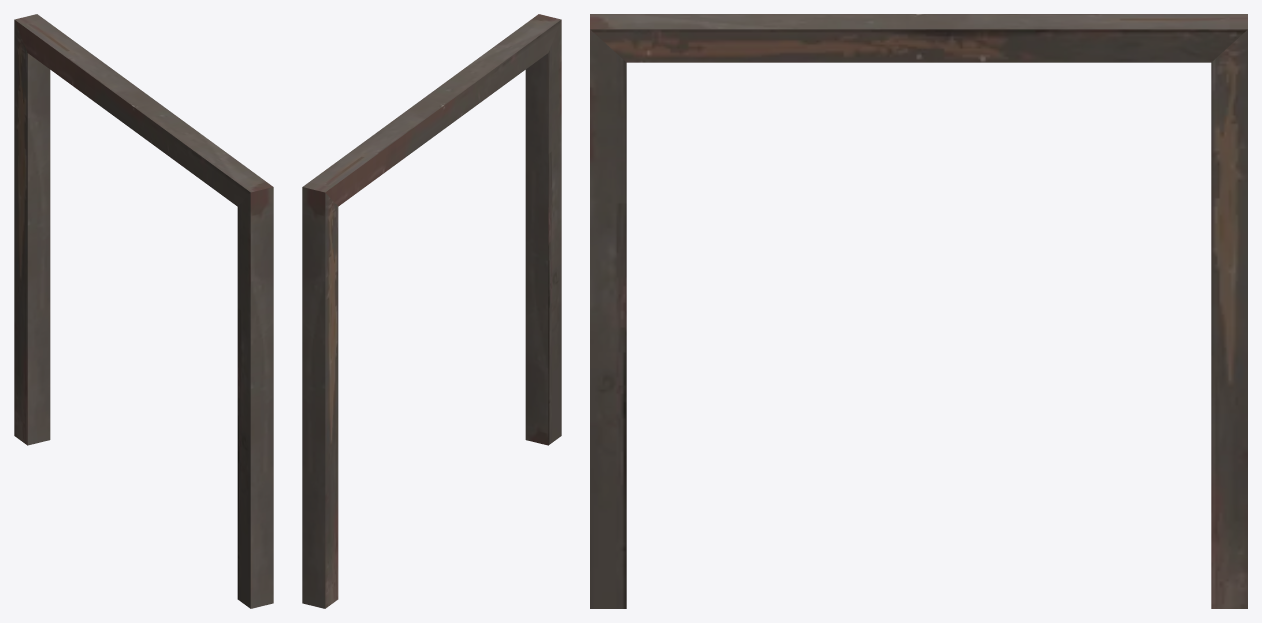
3 renders of one model, left to right at view 1: azimuth 30°, elevation 25°; view 2: azimuth 150°, elevation 25°; view 3: azimuth 270°, elevation 25°, orthographic. The views are drawn at different scales.
Parts seen in each view (by area): view 1: body0_model0_lod0_mesh0; view 2: body0_model0_lod0_mesh0; view 3: body0_model0_lod0_mesh0.
Boxes of the visible parts, x1,y1,x2,y2 form: body0_model0_lod0_mesh0: [14, 14, 273, 608]; body0_model0_lod0_mesh0: [302, 14, 561, 608]; body0_model0_lod0_mesh0: [590, 14, 1247, 608].
Size of the model in its own units: 8 by 140 by 144.
Materials: 1 (1 with a texture image).
